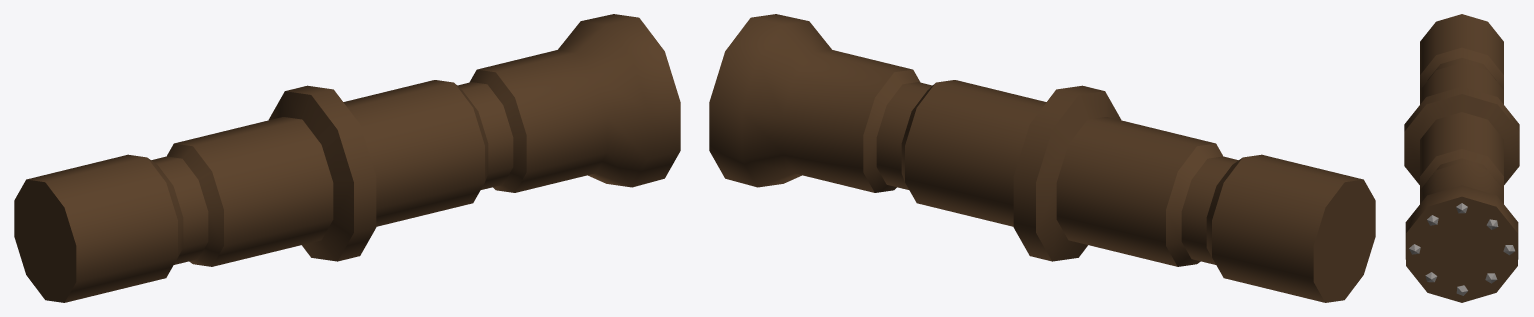
Rendered from Pipe Straight.fbx.
3 renders of one model, left to right at view 1: azimuth 30°, elevation 25°; view 2: azimuth 150°, elevation 25°; view 3: azimuth 270°, elevation 25°, orthographic. The views are drawn at different scales.
Parts seen in each view (by area): view 1: polySurface15; view 2: polySurface15; view 3: polySurface15.
Boxes of the visible parts, x1,y1,x2,y2 form: polySurface15: (14, 14, 680, 302); polySurface15: (709, 14, 1375, 302); polySurface15: (1404, 14, 1519, 302).
Bounding box in the file's own units: 0.9621 × 0.2499 × 0.2377.
